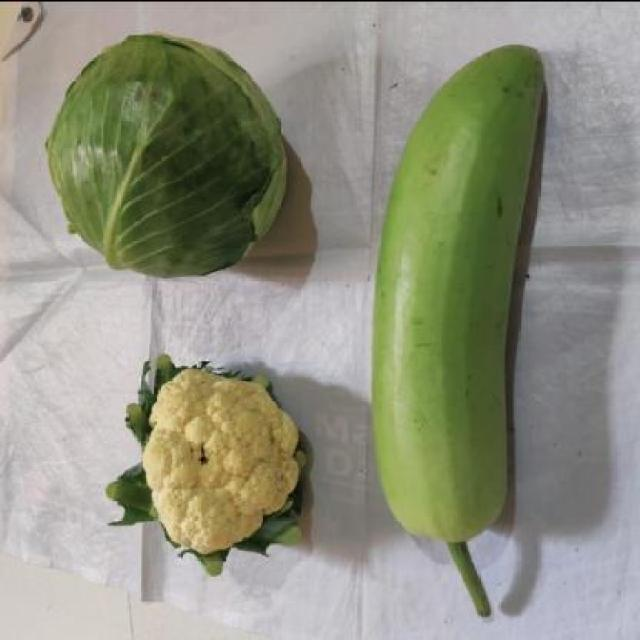Cabbage: (35, 25, 300, 302)
Calabash: (362, 28, 564, 622)
Cauliflower: (86, 348, 320, 588)
